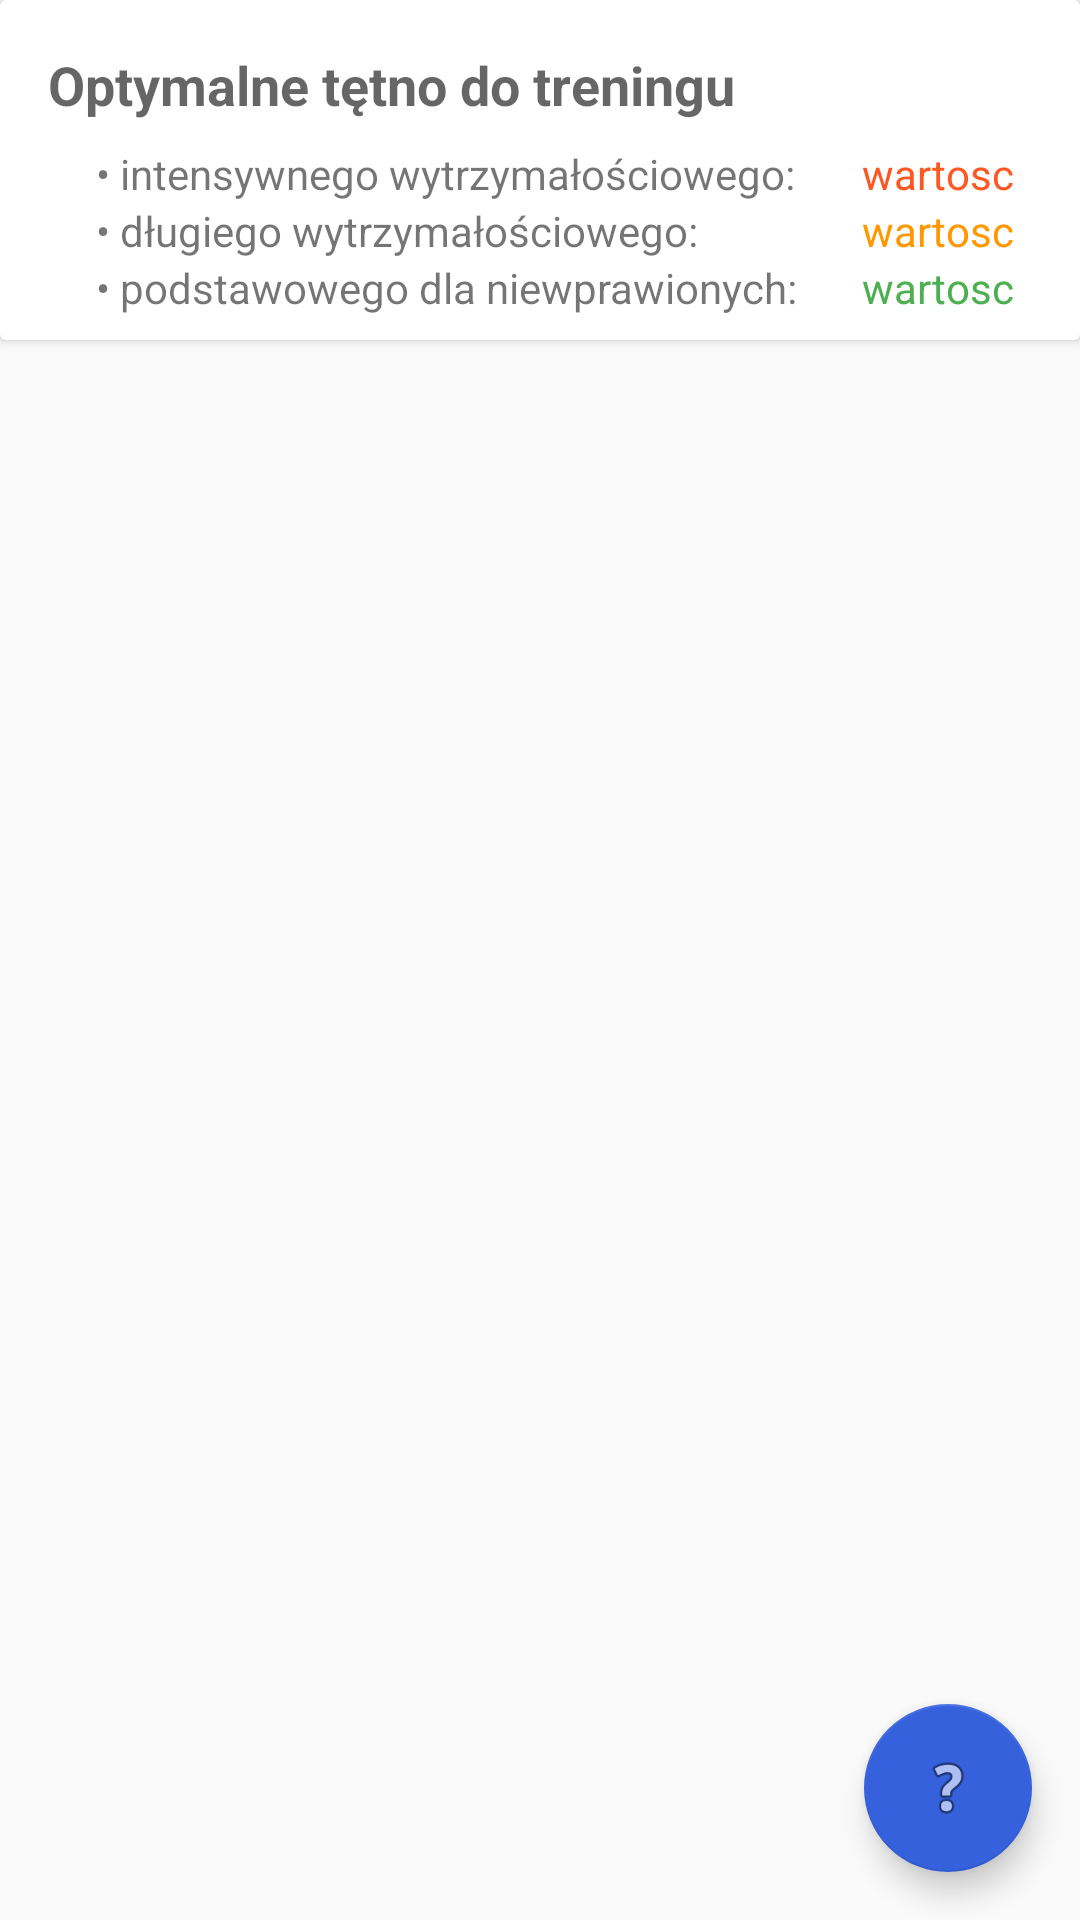

Named icons in this screenshot (1080×1920) and their centers, (x,y):
help: (948,1788)
